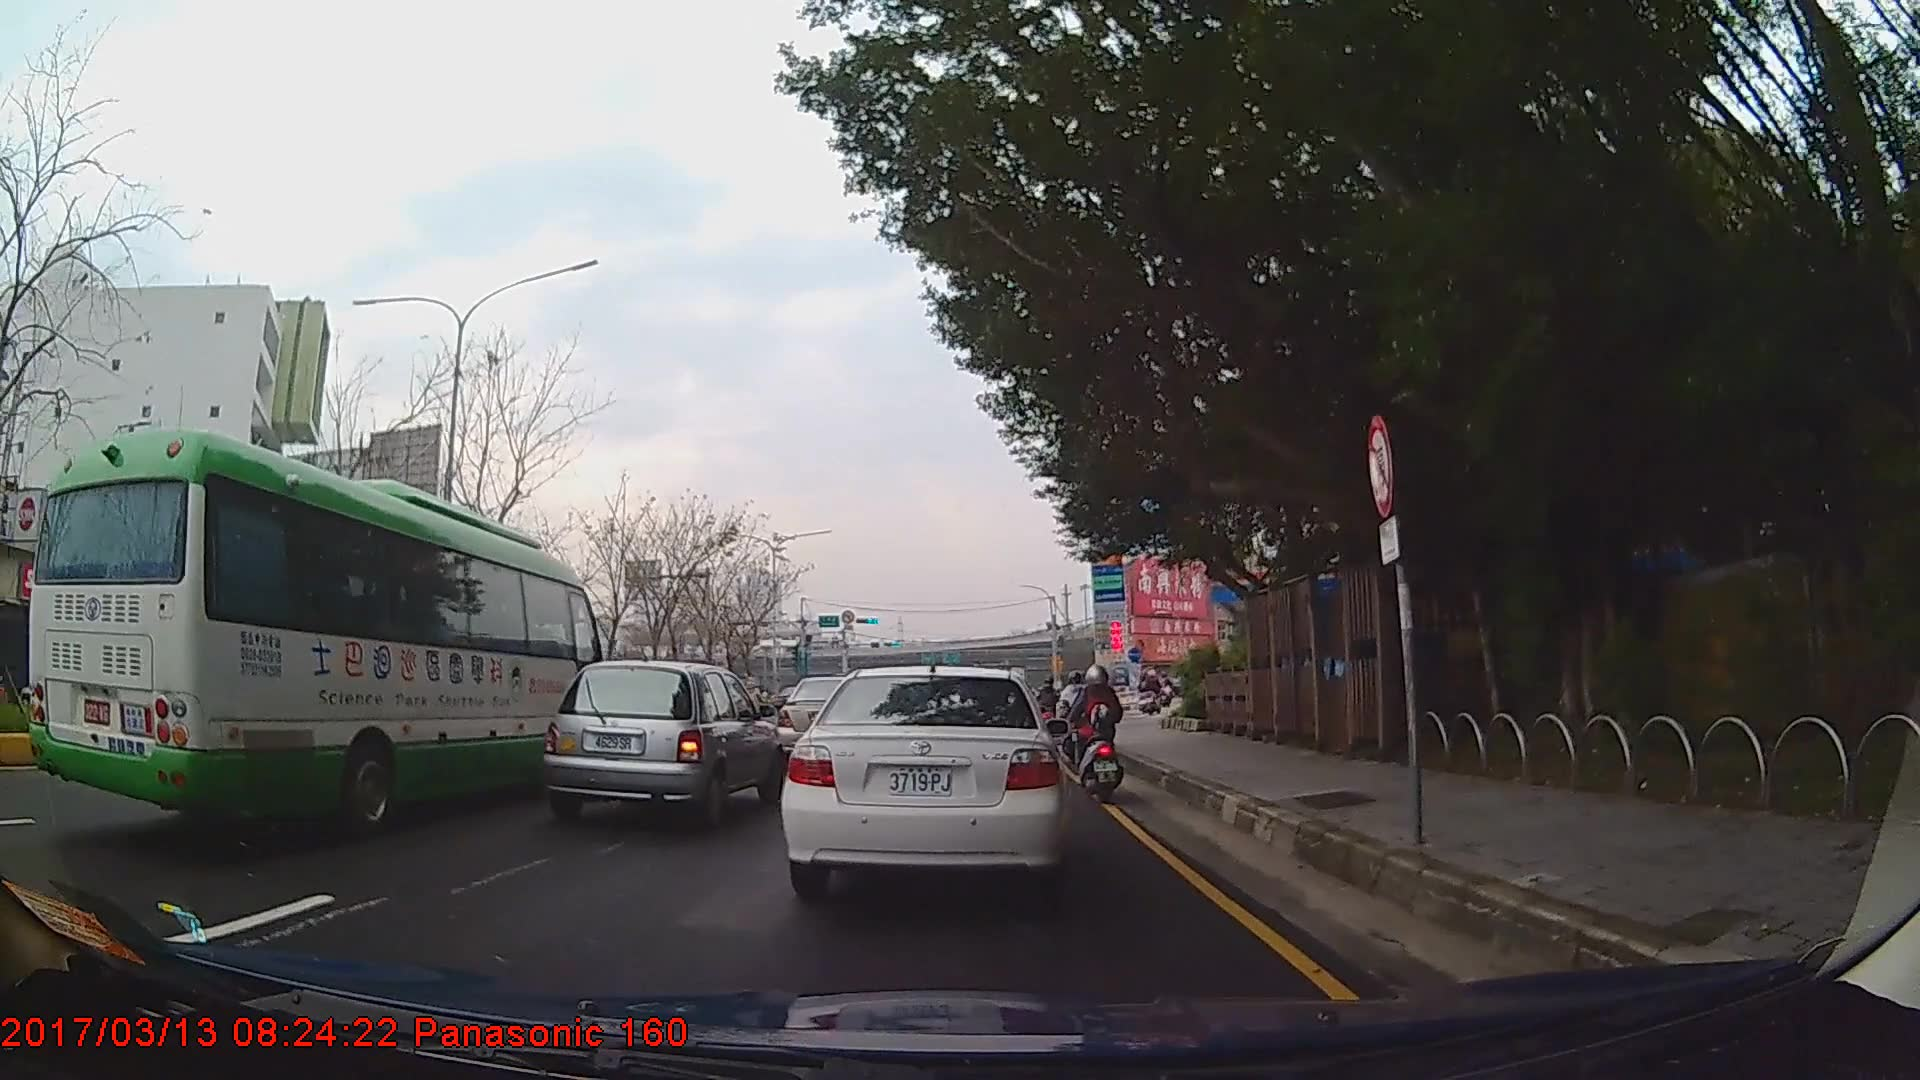rider: (1073, 662, 1123, 807), (1059, 671, 1093, 766), (1037, 675, 1061, 732), (1144, 670, 1164, 718)
vehicle: (26, 428, 605, 837), (779, 662, 1067, 896), (543, 655, 783, 832), (776, 673, 873, 764)
